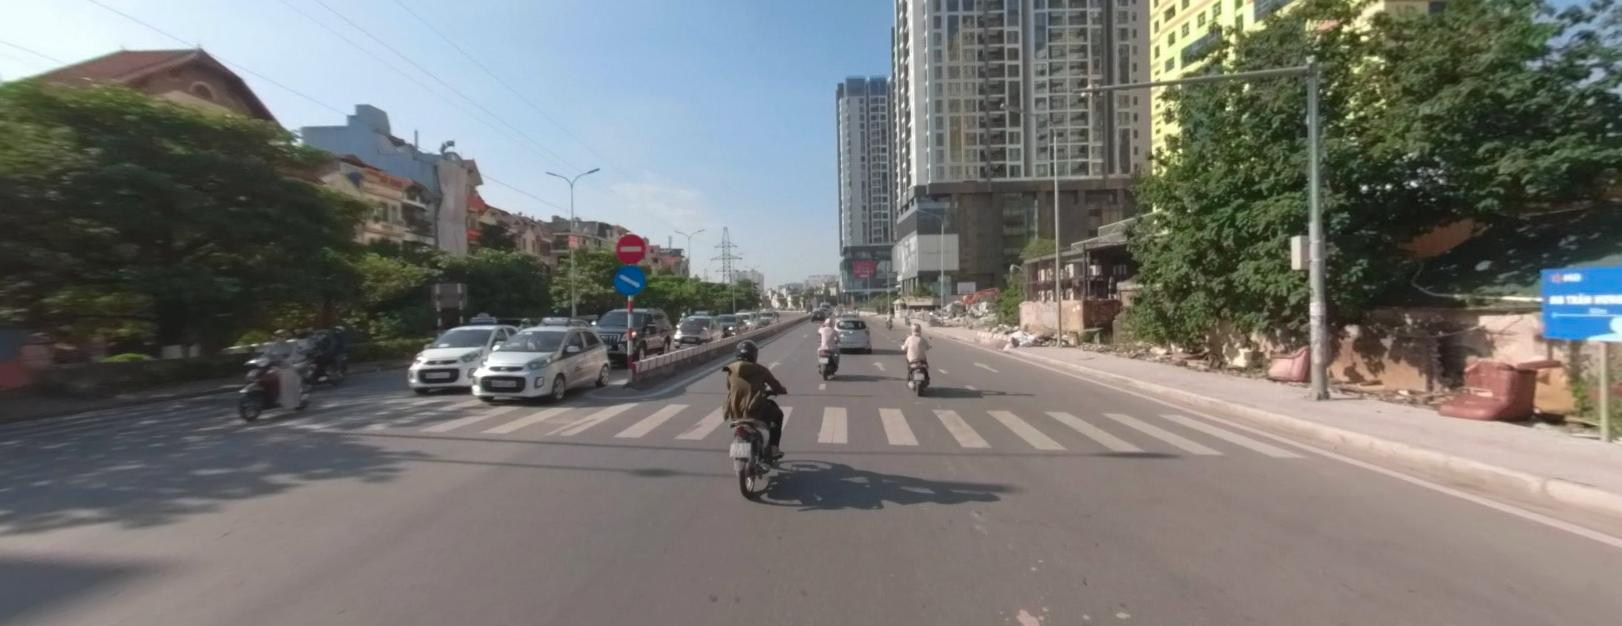Cam nguoc chieu: (614, 233, 645, 262), (615, 231, 644, 261), (615, 232, 644, 261), (615, 233, 644, 262)
Hieu lenh: (612, 263, 647, 294), (613, 262, 645, 293), (613, 264, 645, 293), (614, 264, 644, 294)
